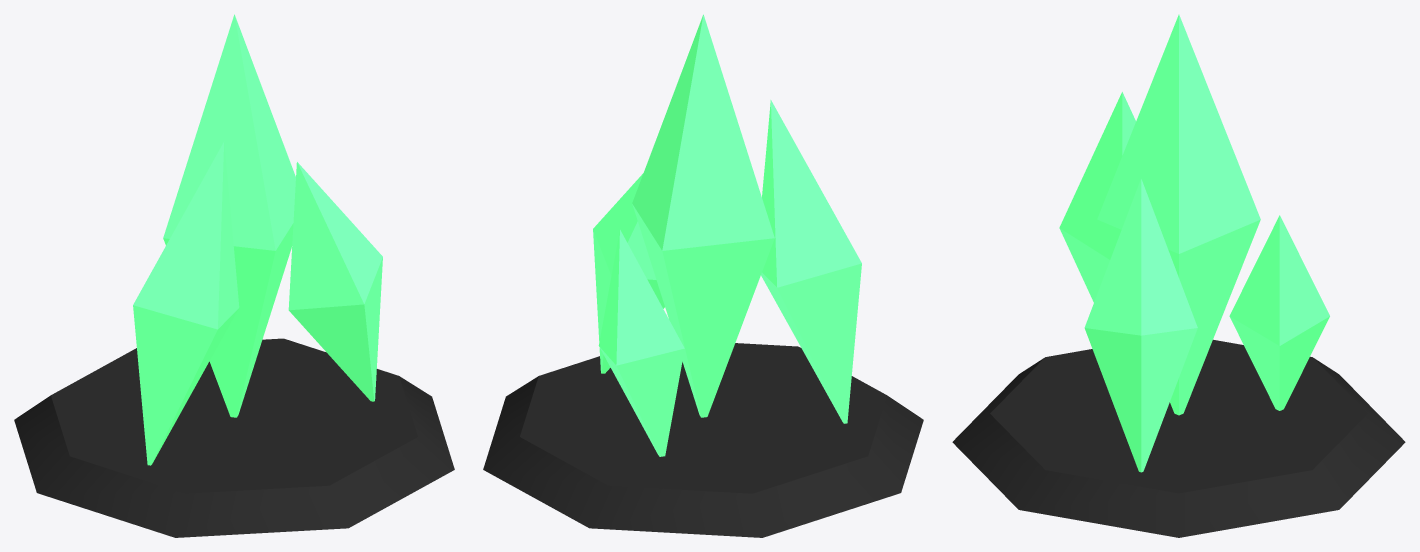
The model's file is source.glb.
3 renders of one model, left to right at view 1: azimuth 30°, elevation 25°; view 2: azimuth 150°, elevation 25°; view 3: azimuth 270°, elevation 25°, orthographic.
Parts seen in each view (by area): view 1: source, crystals; view 2: crystals, source; view 3: crystals, source.
Part boxes in pixels (left/top/right/bottom): source: left=14, top=338, right=454, bottom=537; crystals: left=133, top=14, right=382, bottom=465; crystals: left=593, top=14, right=861, bottom=456; source: left=483, top=343, right=923, bottom=537; crystals: left=1059, top=14, right=1329, bottom=472; source: left=952, top=339, right=1405, bottom=537.
Size of the model in its own units: 0.72 by 0.75 by 0.72.
